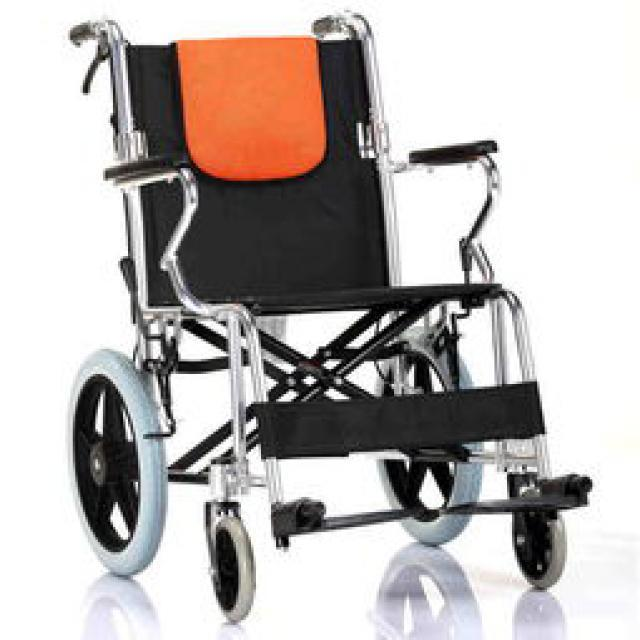wheelchair: (28, 8, 592, 622)
